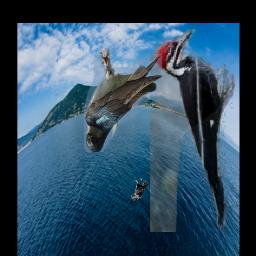Crow: (131, 177, 148, 201)
Swallow: (84, 48, 162, 152)
Woodpecker: (150, 30, 235, 233)
